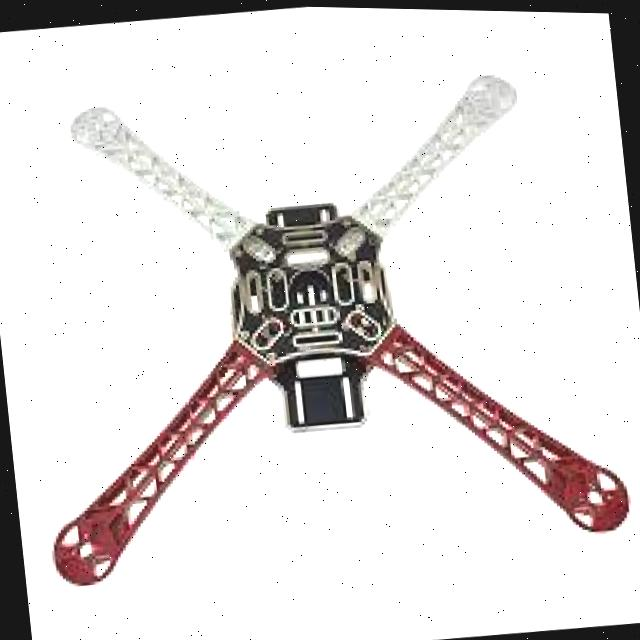drone: (29, 36, 636, 600)
